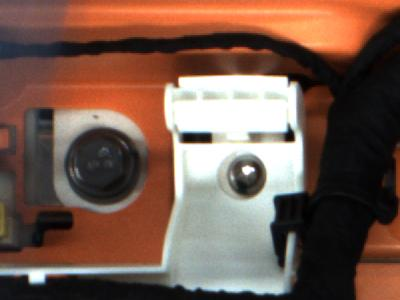nut_b: (57, 127, 140, 205)
